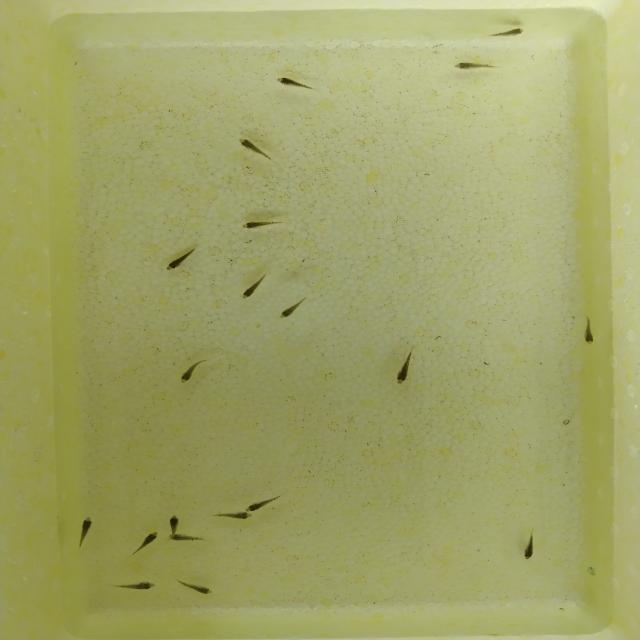fingerling: (232, 135, 276, 163), (275, 296, 313, 324), (236, 274, 268, 304), (179, 576, 224, 597), (76, 514, 102, 548), (506, 536, 543, 558), (396, 347, 414, 392), (178, 357, 205, 387), (578, 317, 602, 350), (109, 580, 165, 594), (159, 251, 197, 271), (244, 494, 288, 511), (270, 76, 316, 91), (451, 60, 493, 74), (238, 219, 290, 230), (491, 26, 526, 42), (135, 529, 161, 550), (158, 513, 183, 532), (212, 513, 256, 522), (166, 534, 204, 544)
